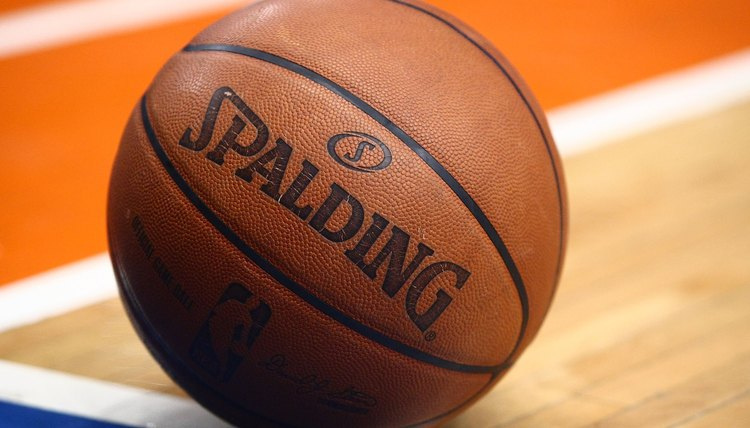ball: (83, 2, 581, 428)
